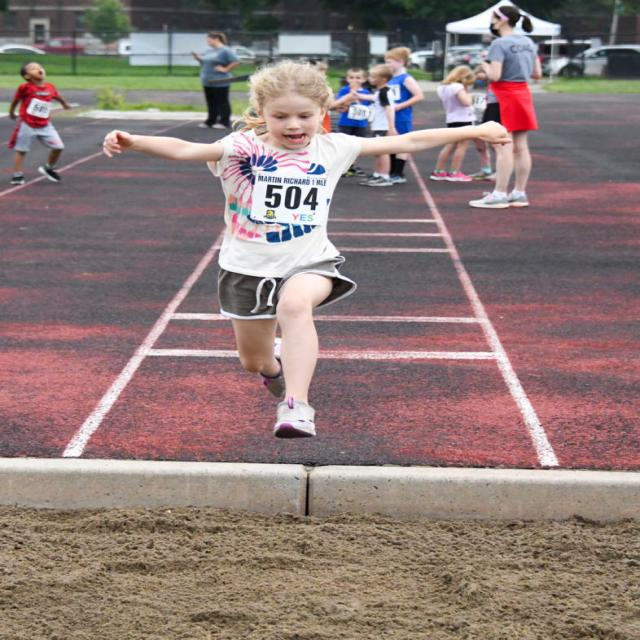Person: (105, 60, 513, 437), (466, 4, 544, 208), (8, 60, 70, 184), (351, 66, 400, 186), (190, 33, 240, 128)
